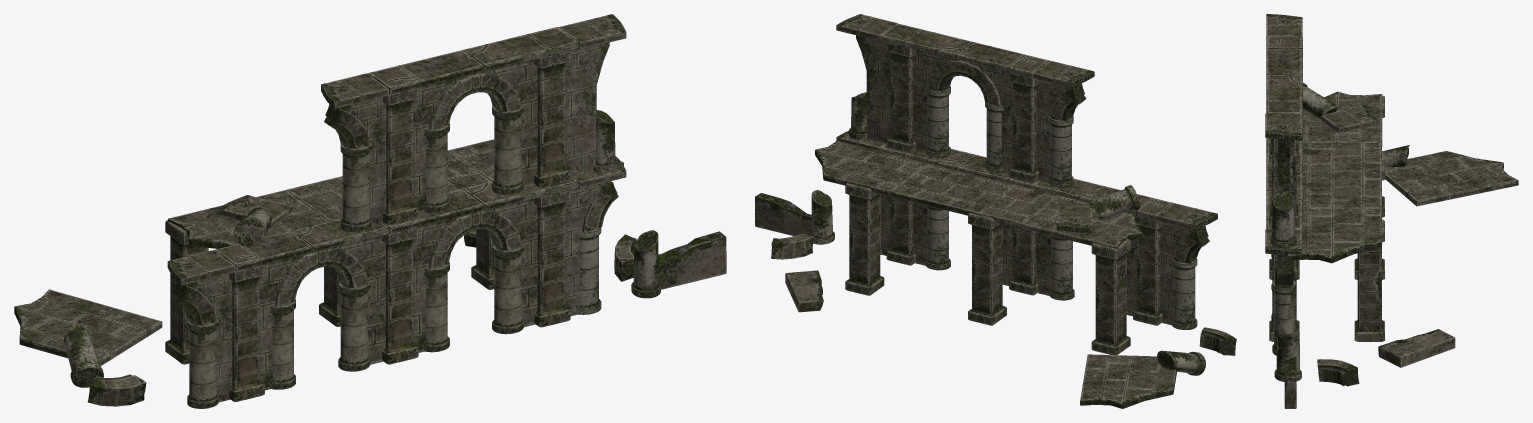
Rendered from ancient_ruins_modular.glb.
3 views of the same model, side by side, from view 1: azimuth 30°, elevation 25°; view 2: azimuth 150°, elevation 25°; view 3: azimuth 270°, elevation 25° (orthographic). The views are drawn at different scales.
Parts seen in each view (by area): view 1: Ruined_Structure_SM; view 2: Ruined_Structure_SM; view 3: Ruined_Structure_SM.
Part boxes in pixels (x1,y1,x2,y2): Ruined_Structure_SM: (14, 14, 726, 408); Ruined_Structure_SM: (755, 14, 1236, 408); Ruined_Structure_SM: (1265, 14, 1518, 408).
Size of the model in its own units: 1939 by 863 by 832.
Materials: 1 (1 with a texture image).
